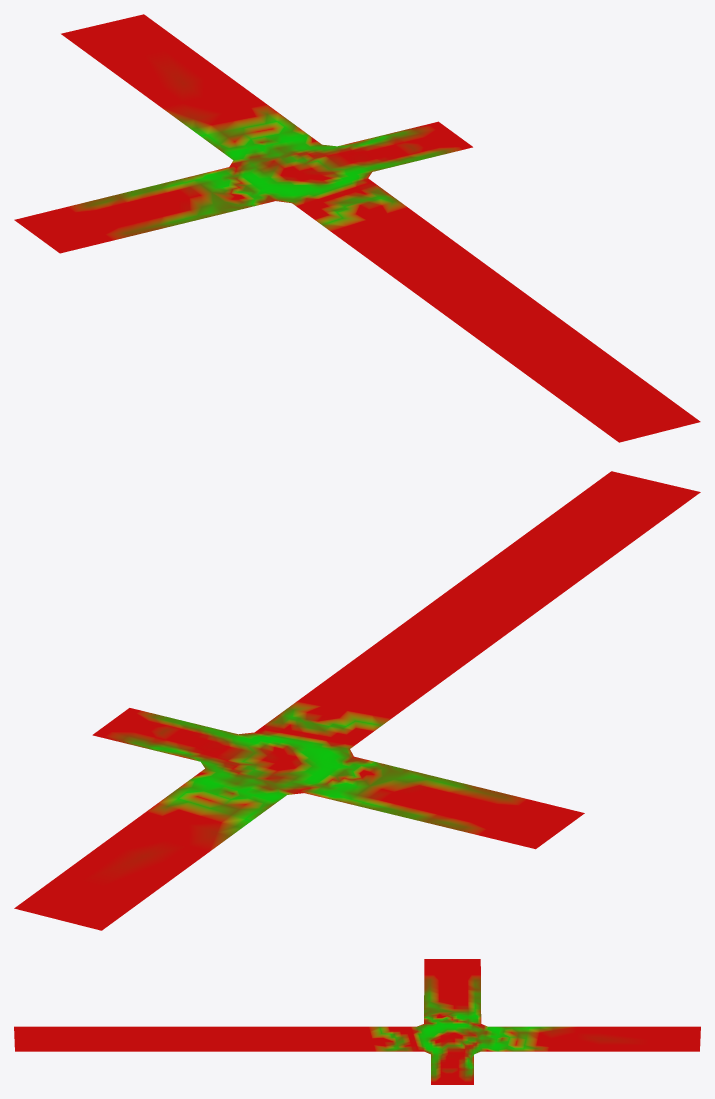
Rendered from pref_sm_4v4_city_hunt01_terrain05a_snow_lv3.fbx.
The picture shows the model from 3 angles, top to bottom: view 1: azimuth 30°, elevation 25°; view 2: azimuth 150°, elevation 25°; view 3: azimuth 270°, elevation 25°; orthographic projection. The views are drawn at different scales.
Parts seen in each view (by area): view 1: pref_sm_4v4_city_hunt01_terrain05a_snow_lv3; view 2: pref_sm_4v4_city_hunt01_terrain05a_snow_lv3; view 3: pref_sm_4v4_city_hunt01_terrain05a_snow_lv3.
Part boxes in pixels (x1,y1,x2,y2): pref_sm_4v4_city_hunt01_terrain05a_snow_lv3: (14,14,700,442); pref_sm_4v4_city_hunt01_terrain05a_snow_lv3: (14,471,700,930); pref_sm_4v4_city_hunt01_terrain05a_snow_lv3: (14,959,700,1084).
Size of the model in its own units: 52.96 by 8.75e-06 by 122.
